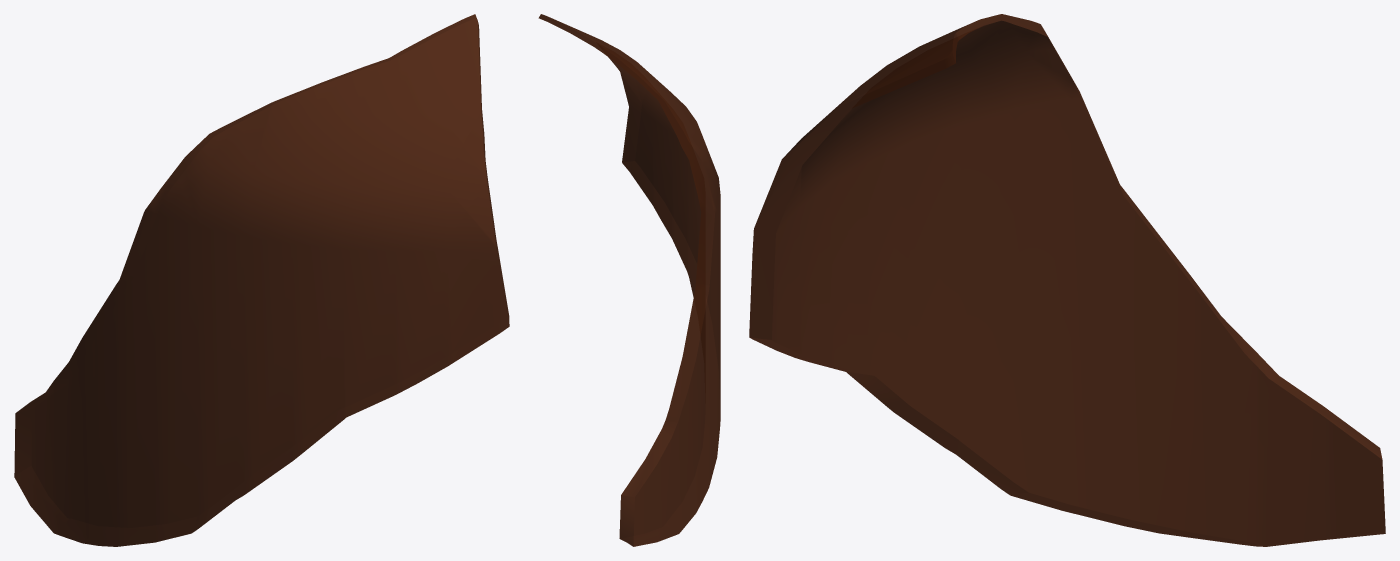
Rendered from GlassPart2.FBX.
The picture shows the model from 3 angles, left to right: view 1: azimuth 30°, elevation 25°; view 2: azimuth 150°, elevation 25°; view 3: azimuth 270°, elevation 25°; orthographic projection. The views are drawn at different scales.
Visible parts, largest first — view 1: polySurface70; view 2: polySurface70; view 3: polySurface70.
Boxes of the visible parts, <box> form: polySurface70: <box>14,14,509,546</box>; polySurface70: <box>538,14,720,546</box>; polySurface70: <box>749,14,1385,546</box>.
Size of the model in its own units: 3.23 by 5.39 by 4.57.
